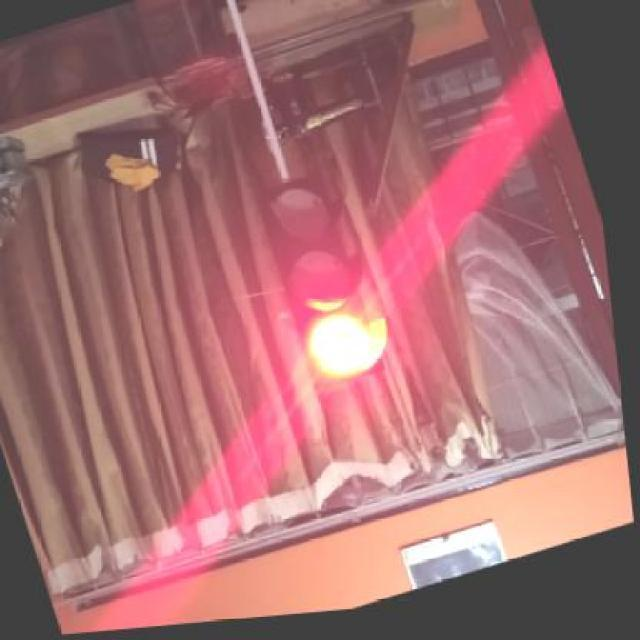red_light: (268, 178, 386, 402)
